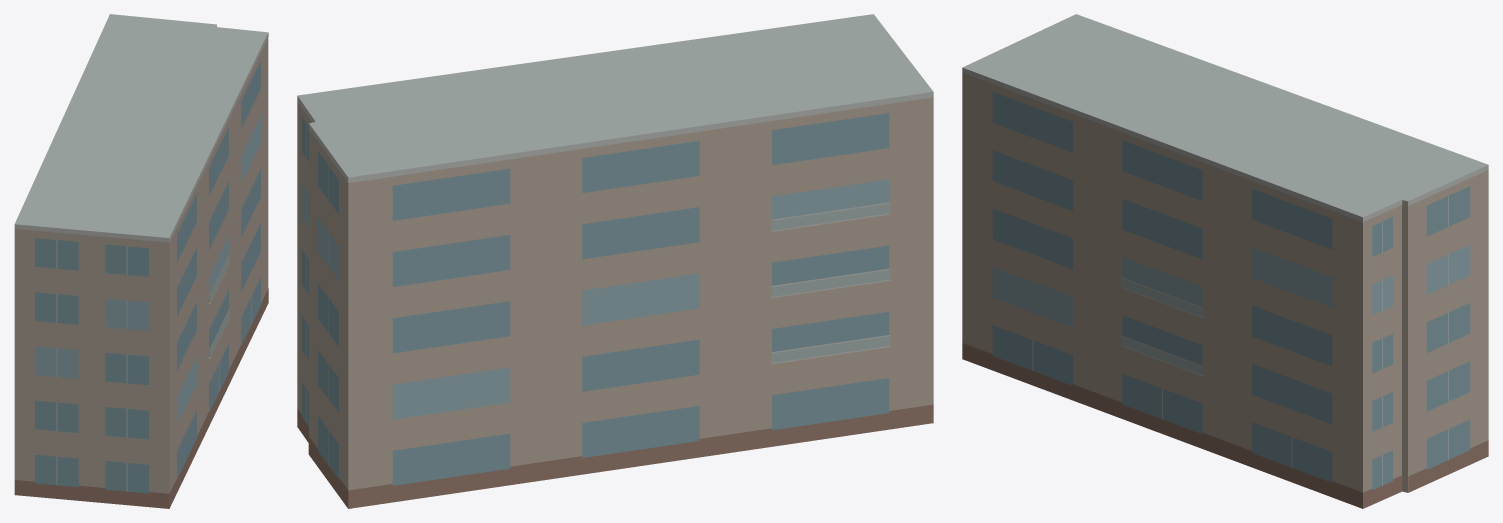
The model's file is survey-upis-32524289.glb.
3 renders of one model, left to right at view 1: azimuth 30°, elevation 25°; view 2: azimuth 150°, elevation 25°; view 3: azimuth 270°, elevation 25°, orthographic. The views are drawn at different scales.
Parts seen in each view (by area): view 1: survey-upis-32524289.tmp; view 2: survey-upis-32524289.tmp; view 3: survey-upis-32524289.tmp.
Boxes of the visible parts, <box> form: survey-upis-32524289.tmp: <box>14,14,268,508</box>; survey-upis-32524289.tmp: <box>297,14,933,508</box>; survey-upis-32524289.tmp: <box>962,14,1488,508</box>.
Bounding box in the file's own units: 21.77 × 14.55 × 23.81.
